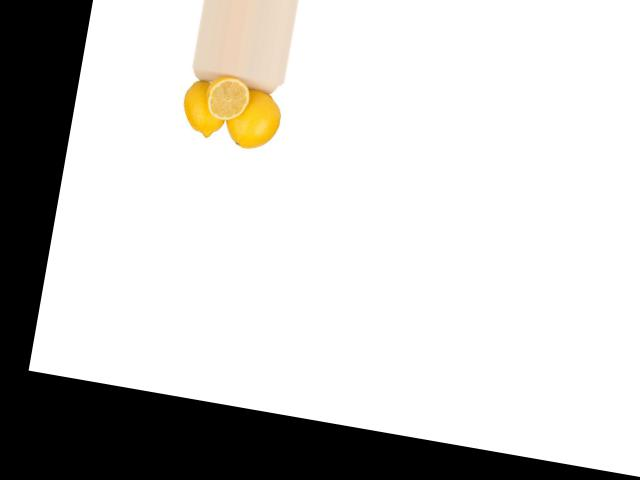lemon: (175, 71, 232, 141)
